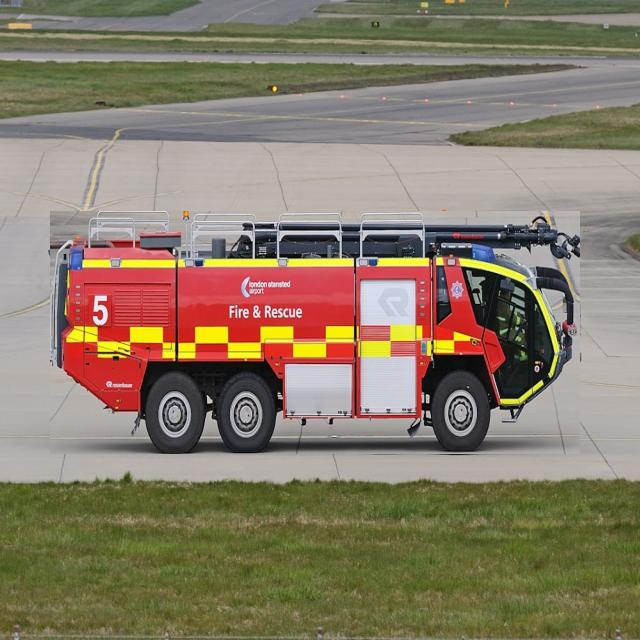emergency: (50, 211, 580, 454)
